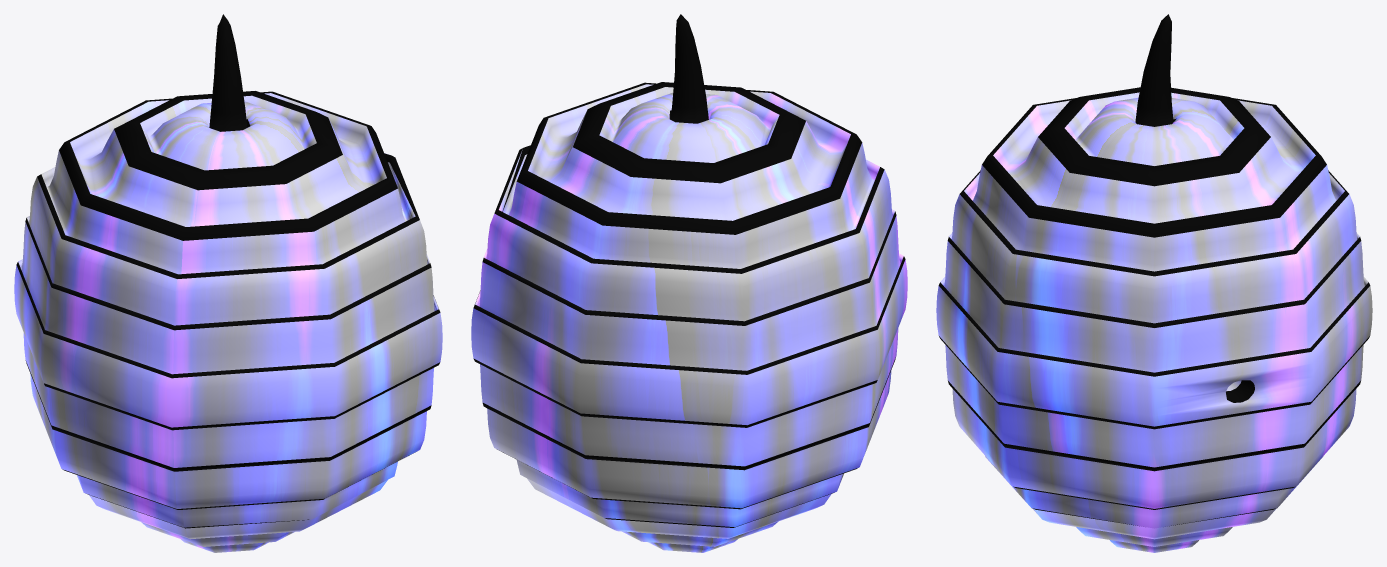
The model's file is hive_ext.glb.
The picture shows the model from 3 angles, left to right: view 1: azimuth 30°, elevation 25°; view 2: azimuth 150°, elevation 25°; view 3: azimuth 270°, elevation 25°; orthographic projection.
Visible parts, largest first — view 1: Cube; view 2: Cube; view 3: Cube.
Boxes of the visible parts, x1,y1,x2,y2 form: Cube: [14, 14, 442, 552]; Cube: [471, 14, 907, 552]; Cube: [936, 14, 1372, 552].
Size of the model in its own units: 2.72 by 3.63 by 2.72.
